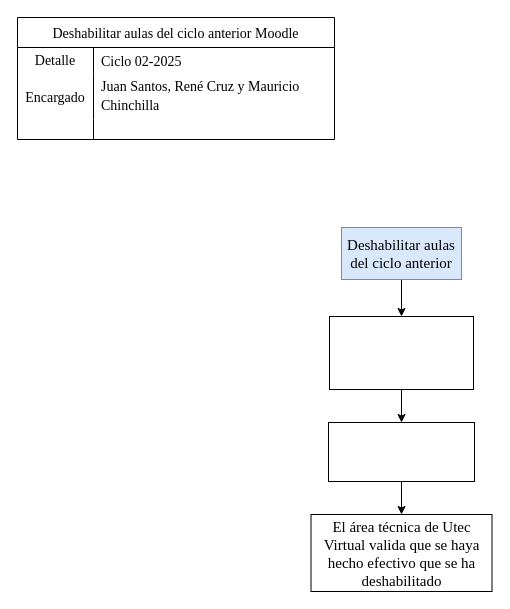
The diagram is 510 pixels wide and 609 high, and some of its shapes have lost their labels. Here are the shapes that lost their labels. From the top down, the centre of each, then its label:
At (x=401, y=353): "Notificar al encargado en la dirección de tecnología el ciclo ha deshabilitar".
At (x=401, y=452): "Esperar confirmación de la Dirección de Tecnología".
